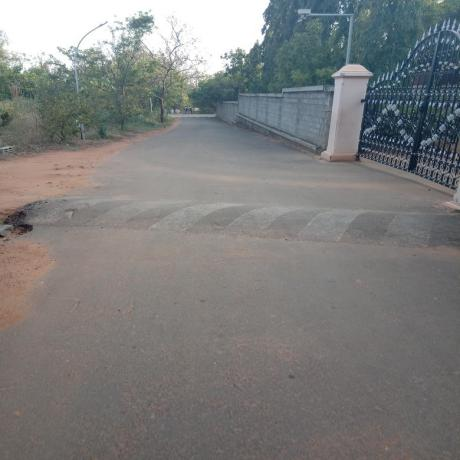Speed Bump: (2, 194, 460, 254)
